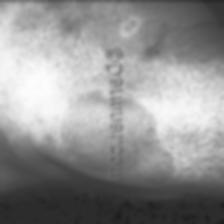Potentially Malignant Skin Tumors: (125, 0, 197, 61), (79, 96, 108, 178)
